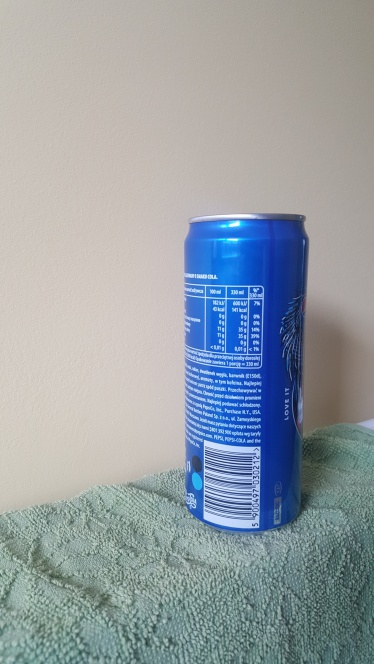pepsi: (173, 206, 330, 534)
